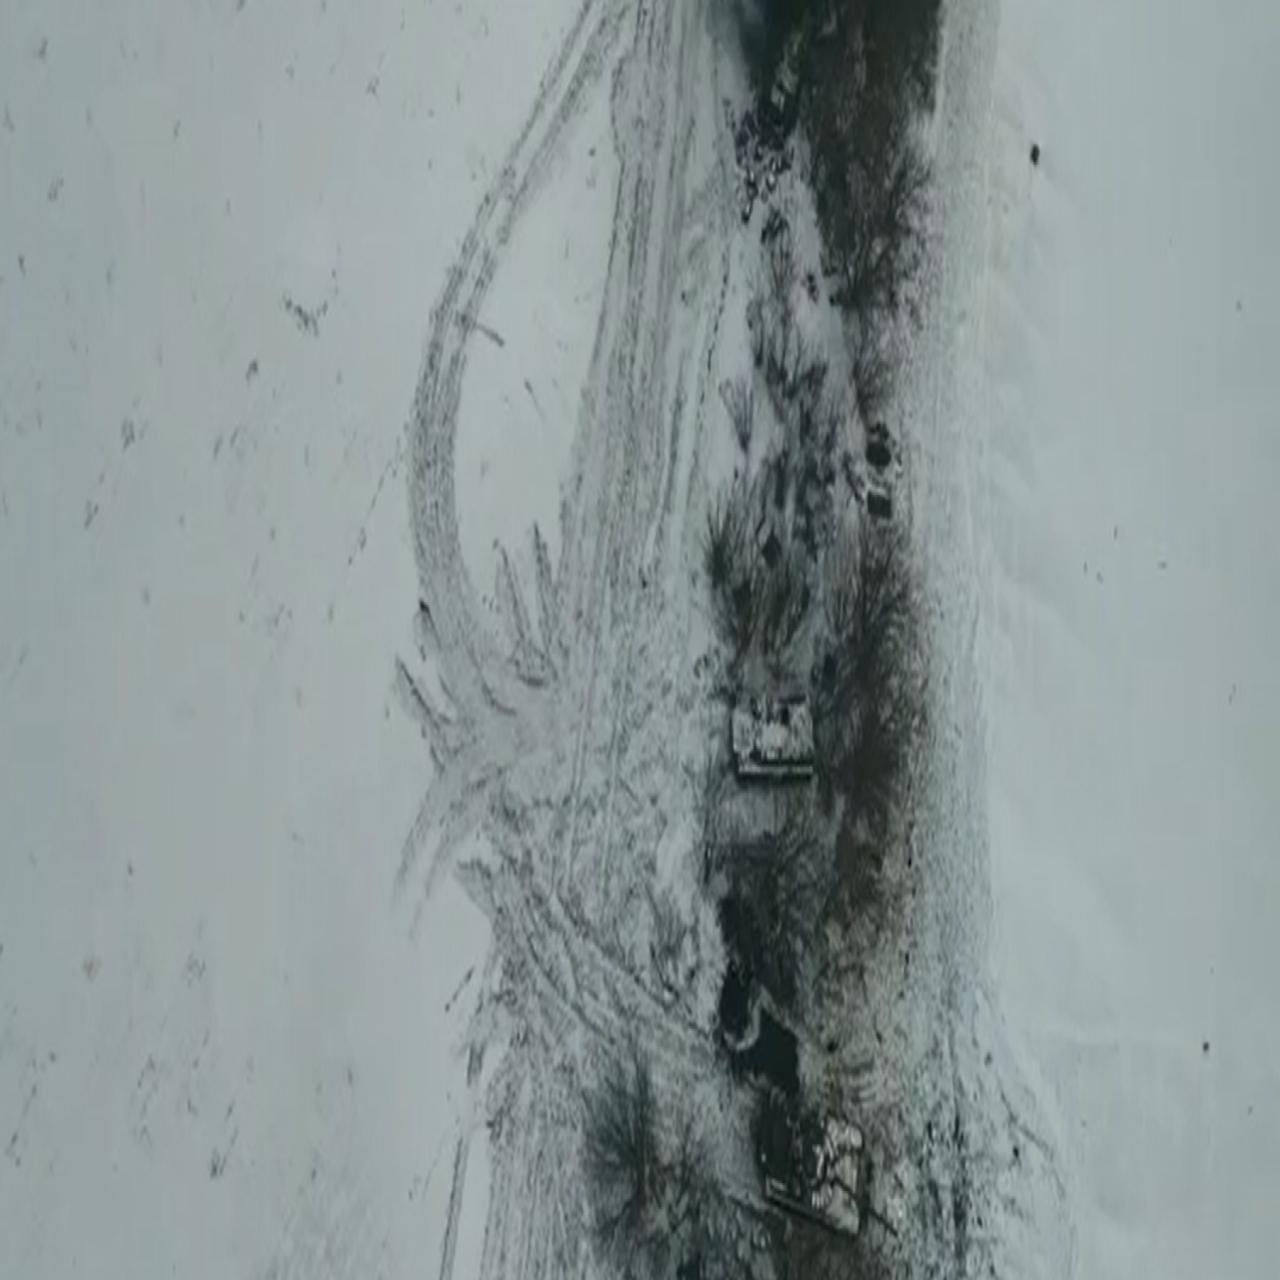MIL_Veh: (741, 1075, 895, 1234)
